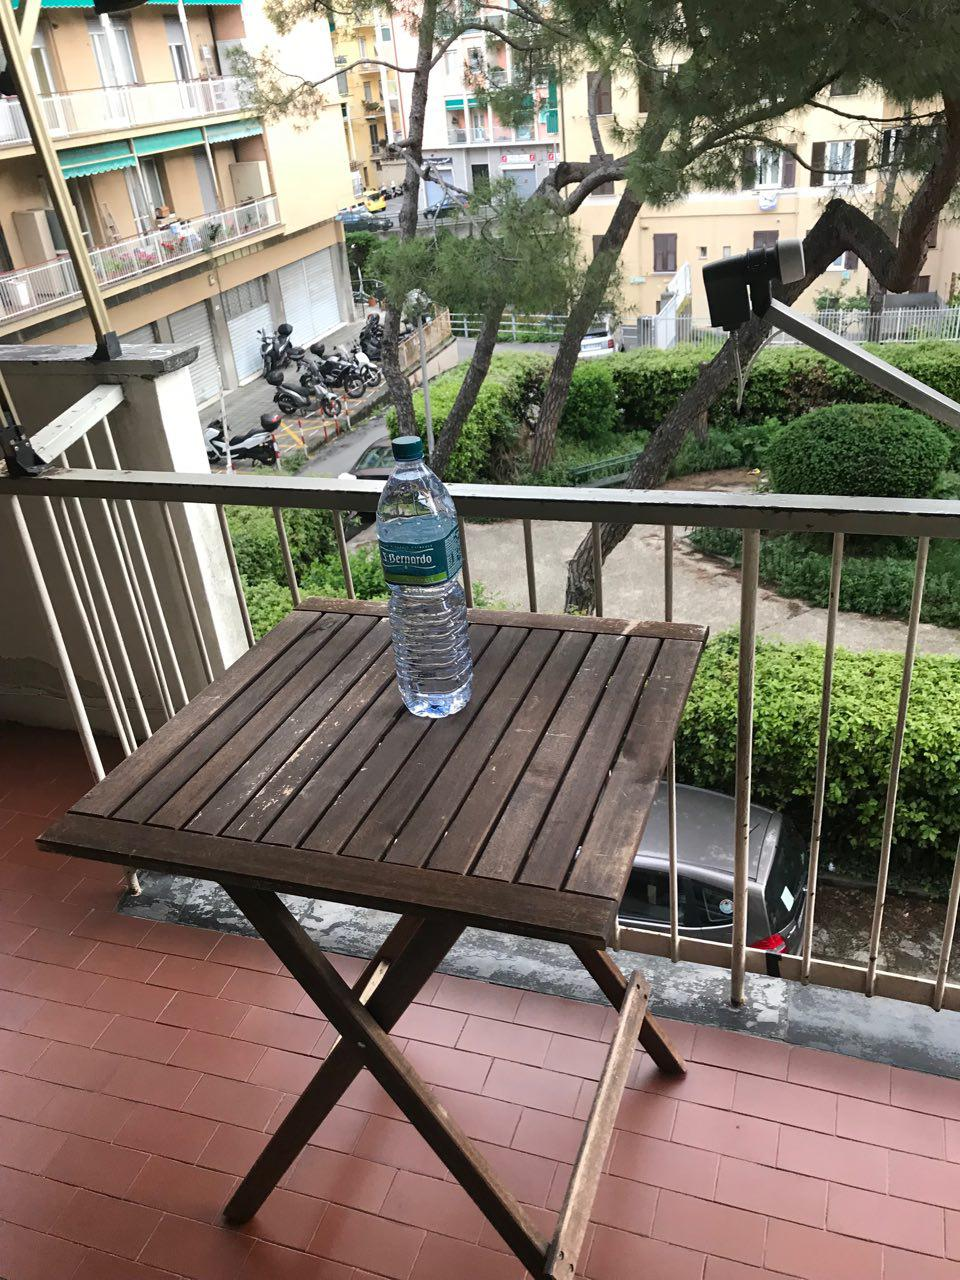san_bernardo: (375, 434, 474, 720)
